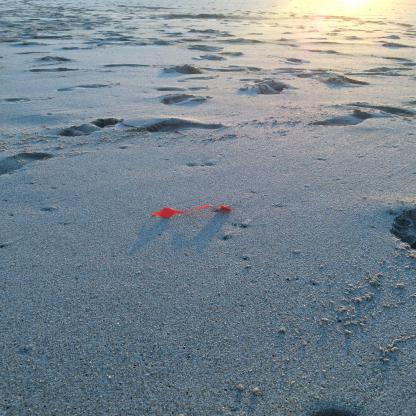plastik: (151, 205, 232, 219)
